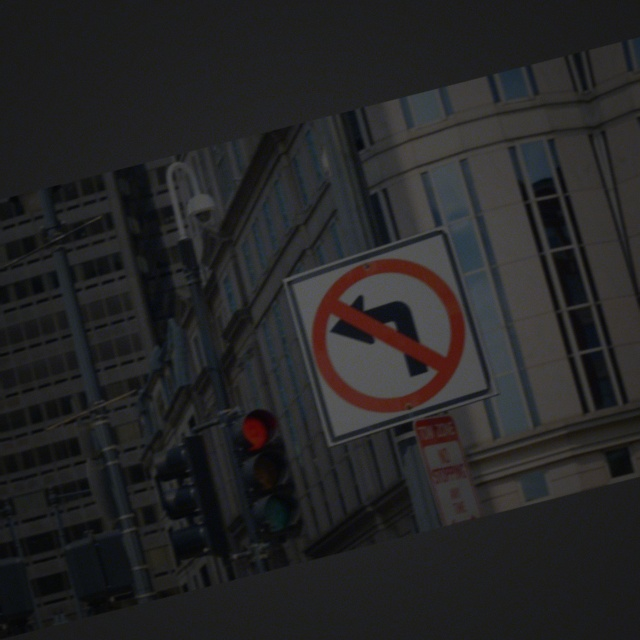Left_Turn_Prohibited: (284, 233, 498, 437)
